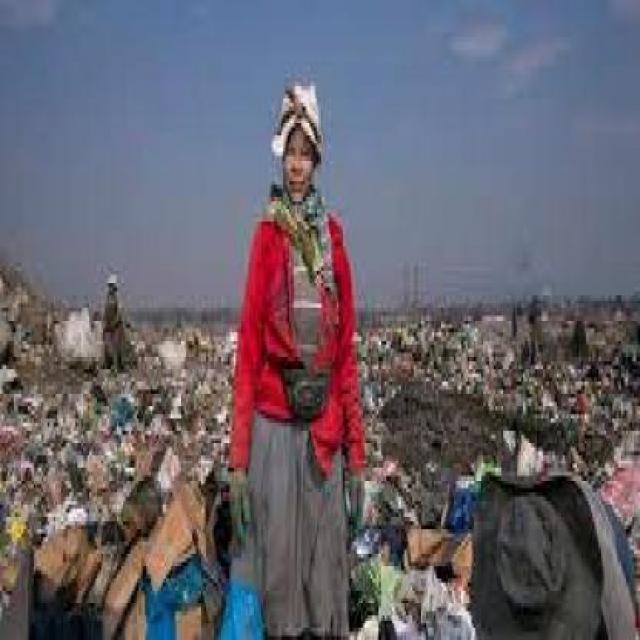garbage: (356, 317, 639, 637), (0, 319, 229, 636)
